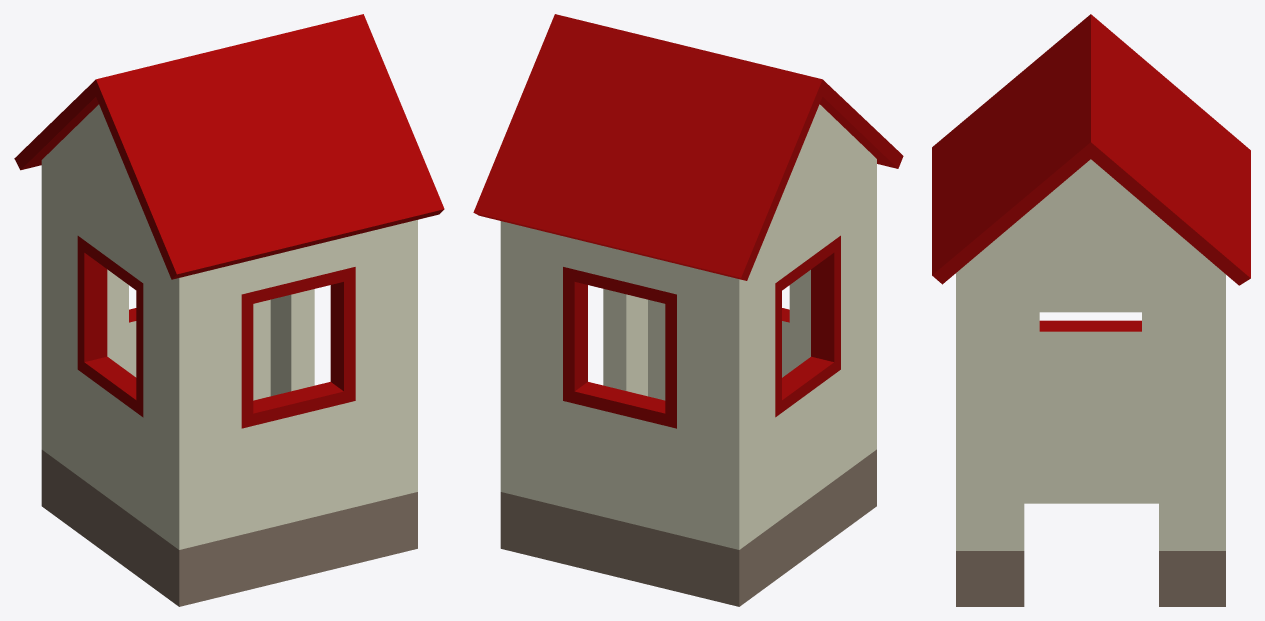
The model's file is booth1.fbx.
The picture shows the model from 3 angles, left to right: view 1: azimuth 30°, elevation 25°; view 2: azimuth 150°, elevation 25°; view 3: azimuth 270°, elevation 25°; orthographic projection.
Visible parts, largest first — view 1: booth1; view 2: booth1; view 3: booth1.
Part boxes in pixels (<box>): booth1: <box>14,14,444,606</box>; booth1: <box>473,14,903,606</box>; booth1: <box>932,14,1250,606</box>.
Size of the model in its own units: 162 by 279 by 171.
